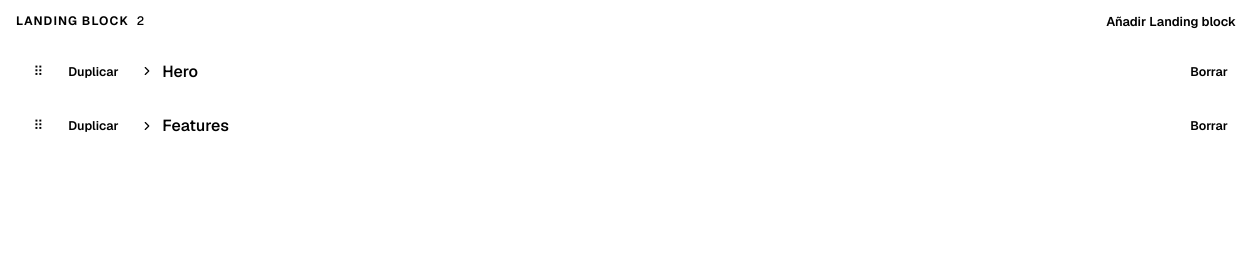
it: RecordBlocks.svelte › ids de campo por fila: dos bloques con "heading" no colisionan, y la etiqueta del desplegado apunta a SU input (hallazgo p1, accesibilidad)
Click the button "Features".
click(196, 126)  # box x1=136 y1=112 x2=1173 y2=140
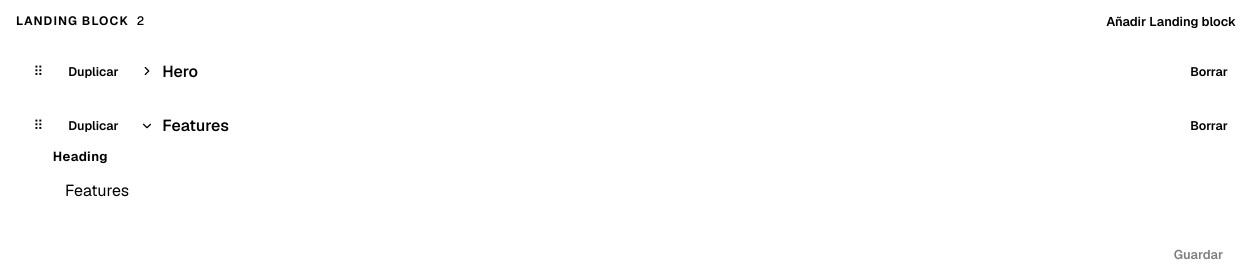
Expected: the label "Heading" is shown, x1=53 y1=148 x2=108 y2=165
